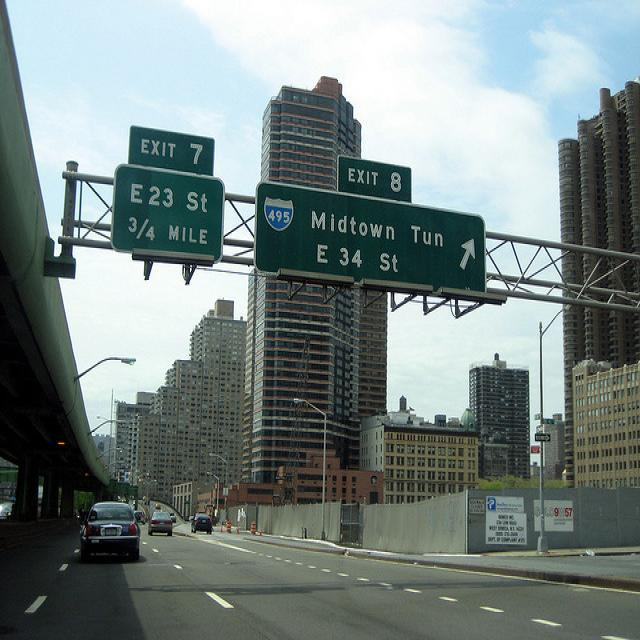Vehicle: (80, 501, 140, 560), (148, 512, 172, 536), (190, 513, 212, 535), (133, 510, 147, 525), (170, 512, 175, 522), (155, 504, 160, 509)
